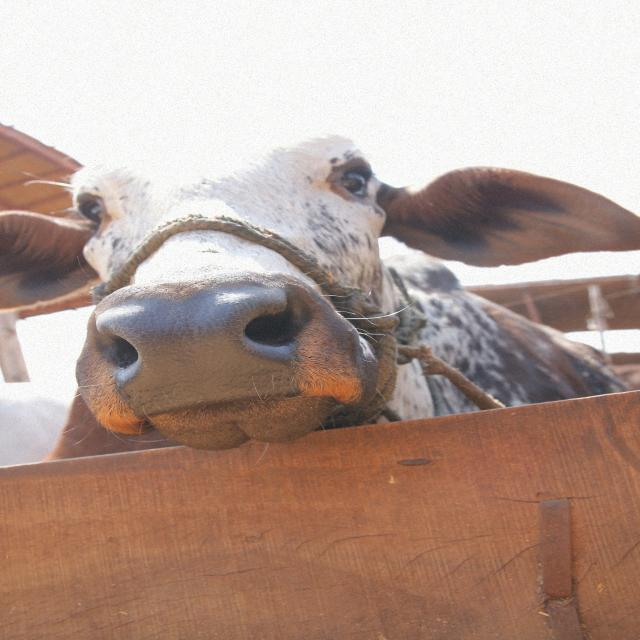muzzles: (90, 280, 327, 406)
